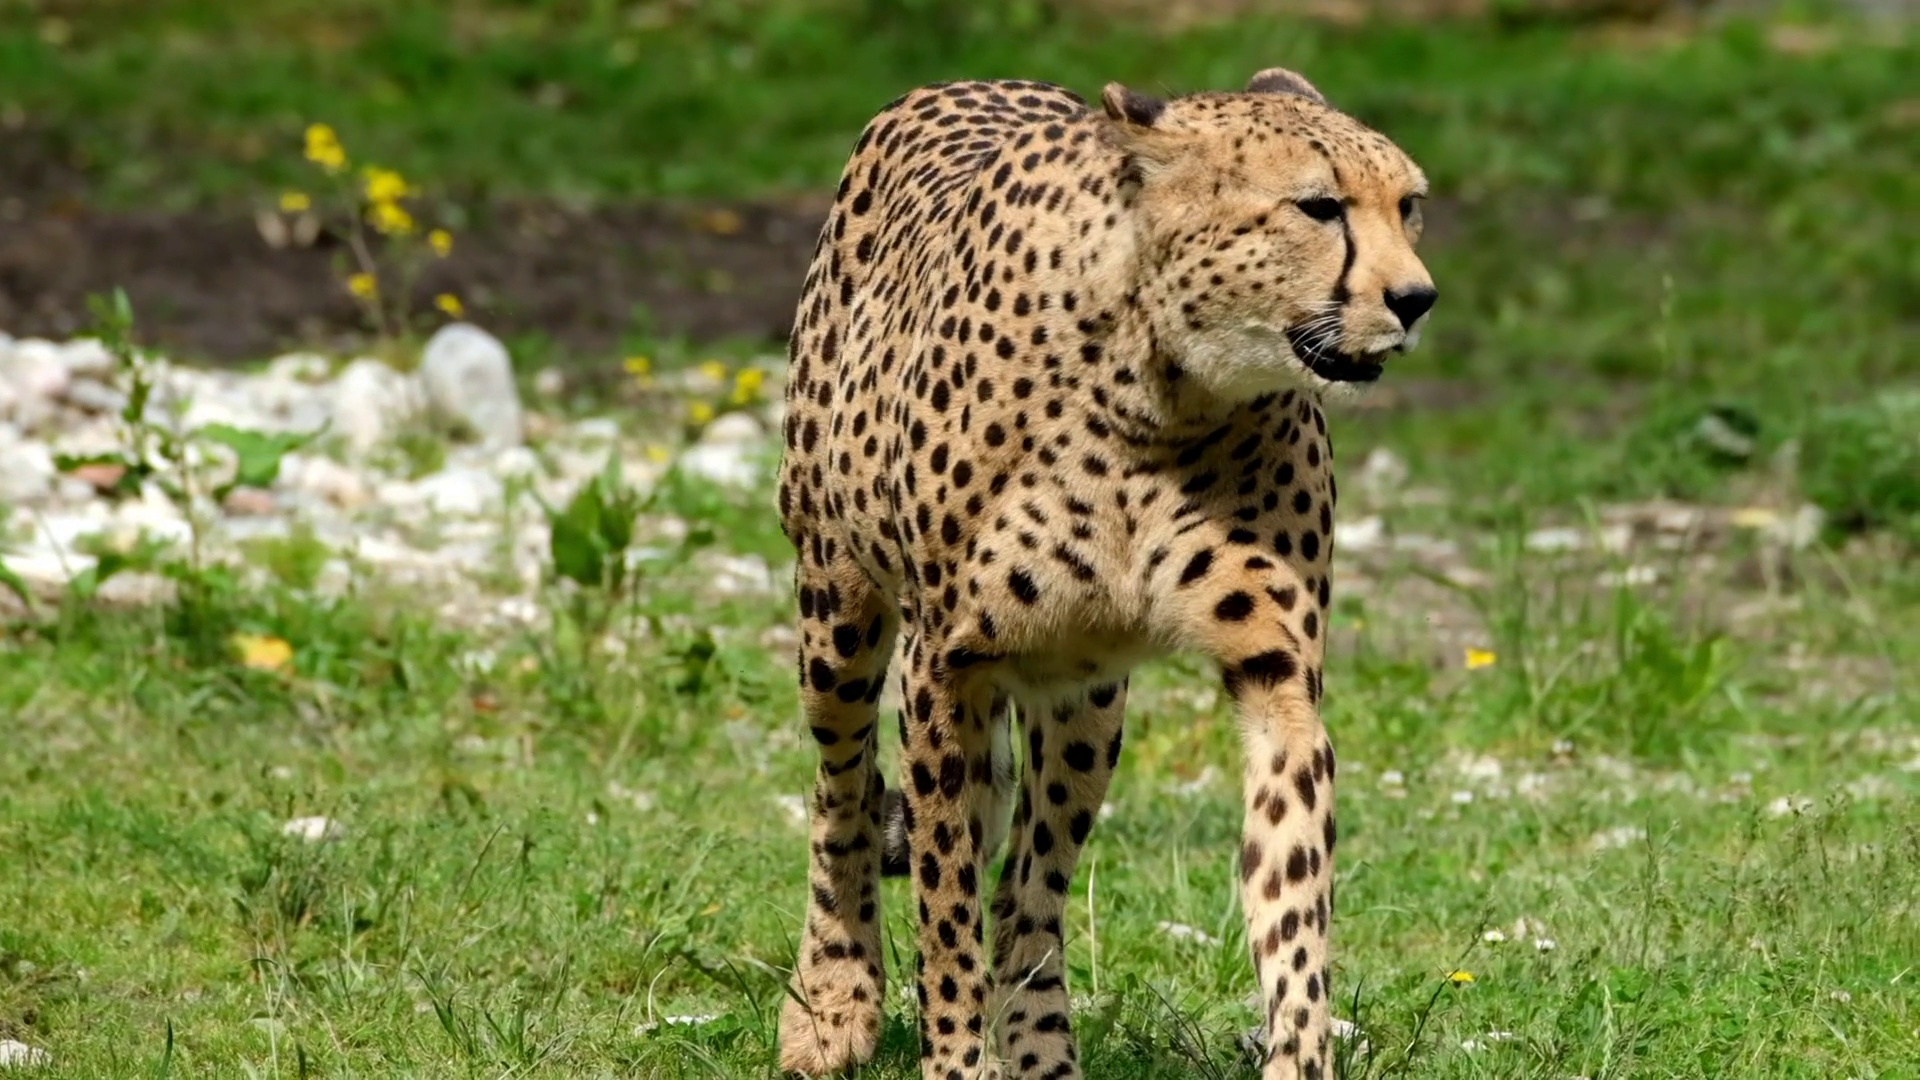Cheetah: (773, 62, 1443, 1080)
